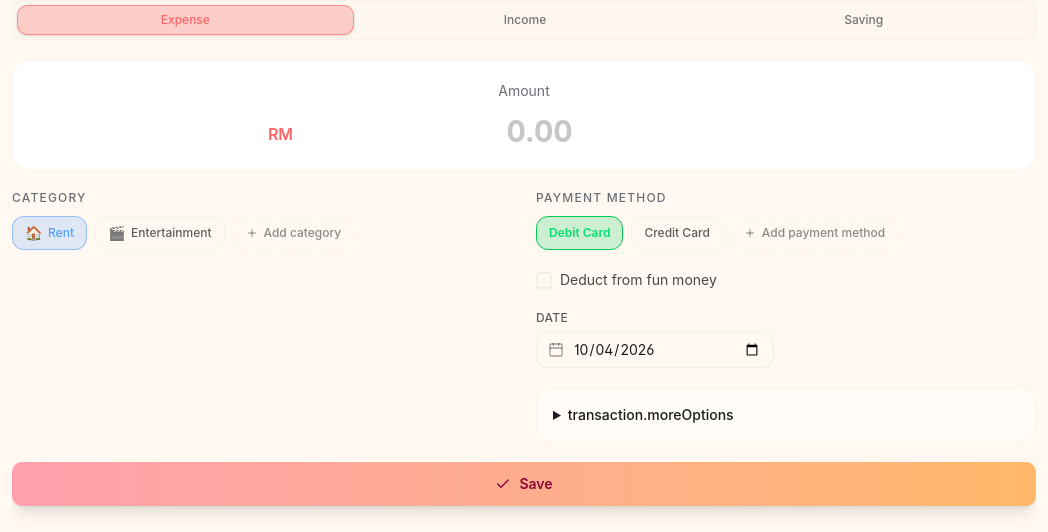
it: TransactionForm type tabs › shows the synthetic income chip only, and the savings chip when switching to saving
Click the button "Income": (525, 20) top-left (358, 5), bottom-right (692, 35)
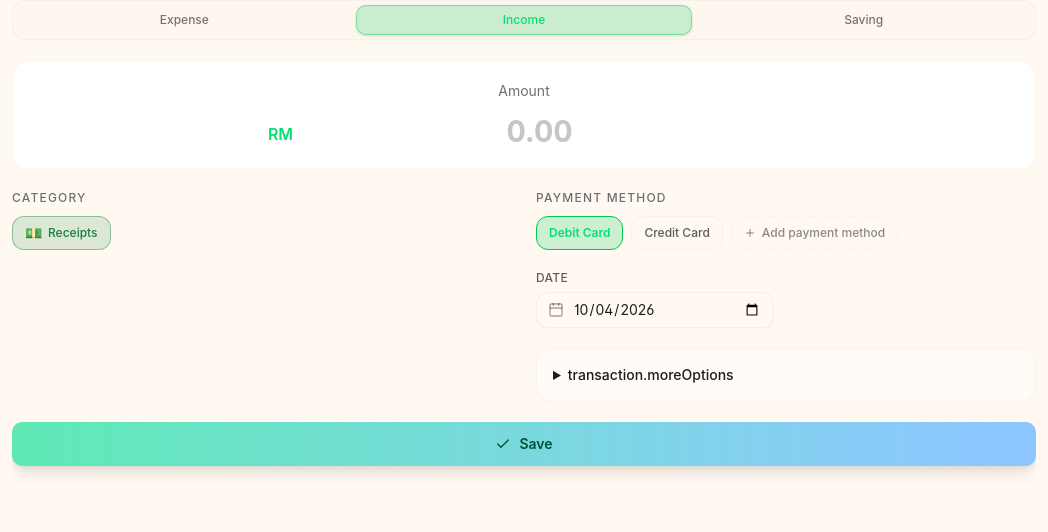
Expected: the text "Receipts" is shown, top-left (48, 225), bottom-right (98, 241)
Expected: the button "Rent" is gone
Expected: the button "Entertainment" is gone
Click the button "Saving": (864, 20) top-left (696, 5), bottom-right (1031, 35)
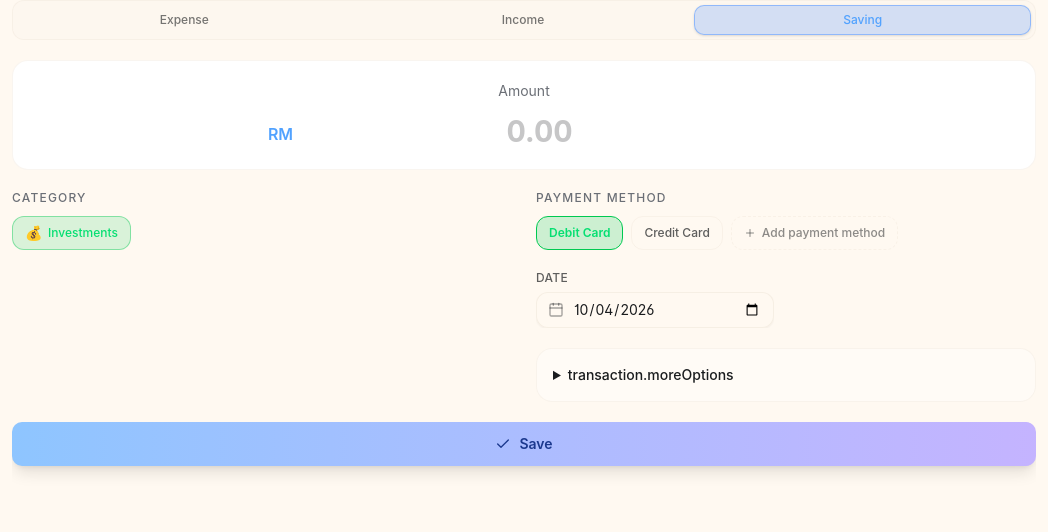
Expected: the button "Rent" is not shown
Expected: the text "Investments" is shown, top-left (48, 225), bottom-right (118, 241)
Expected: the button "Receipts" is gone
Click the button "Expense": (184, 20) top-left (17, 5), bottom-right (352, 35)
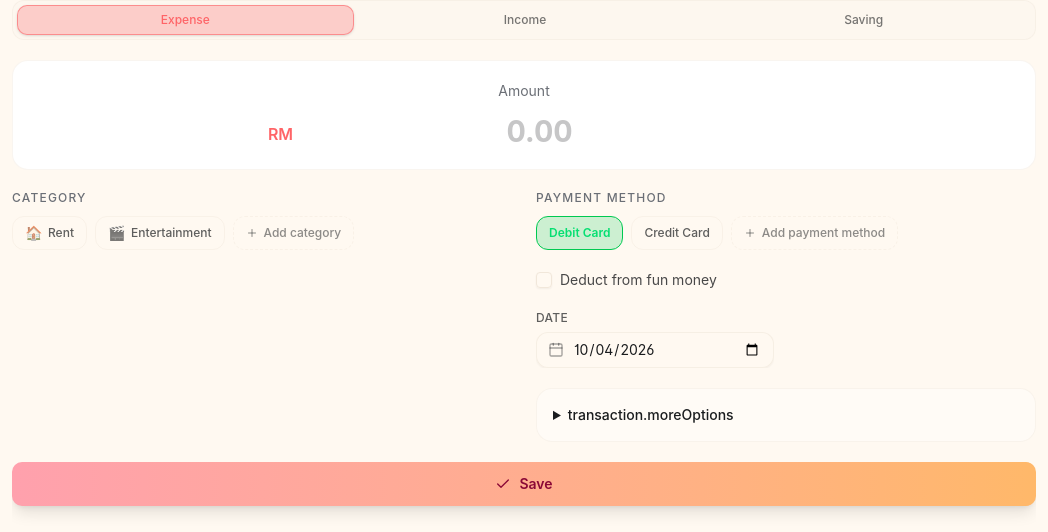
Expected: the text "Rent" is shown, top-left (48, 225), bottom-right (74, 241)
Expected: the text "Entertainment" is shown, top-left (131, 225), bottom-right (212, 241)
Expected: the button "Add category" is shown, top-left (232, 216), bottom-right (354, 250)
